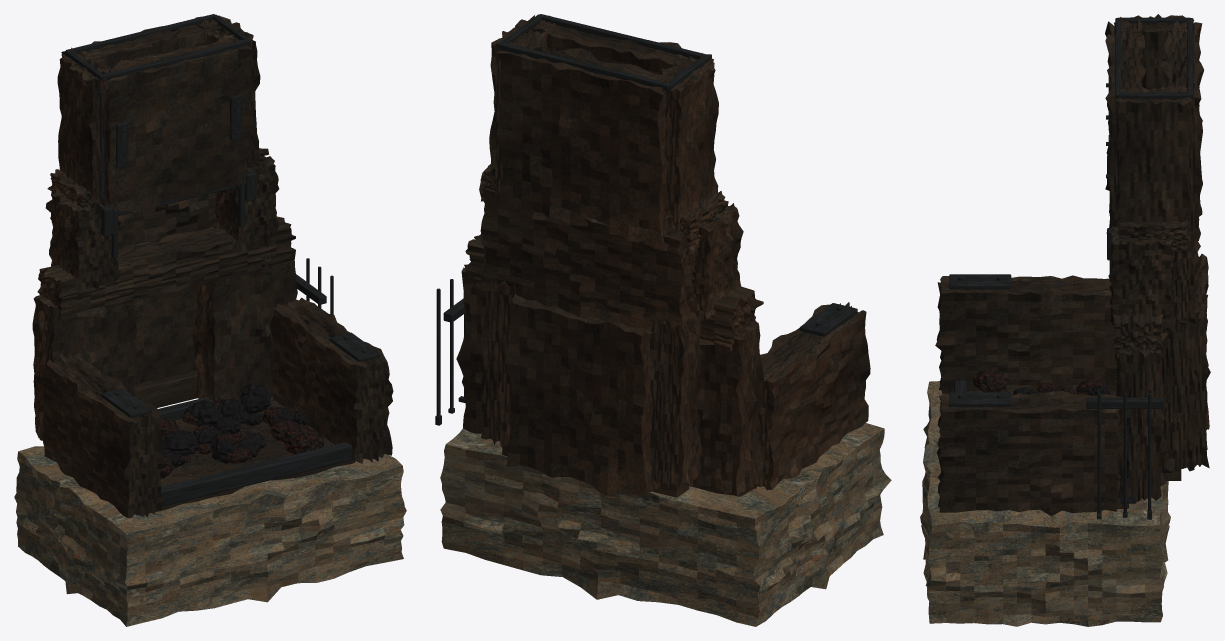
The model's file is Forge_V038_HeaderFixed_Preview.glb.
3 views of the same model, side by side, from view 1: azimuth 30°, elevation 25°; view 2: azimuth 150°, elevation 25°; view 3: azimuth 270°, elevation 25° (orthographic). The views are drawn at different scales.
Parts seen in each view (by area): view 1: One continuous fissured quarry foundation, Tall continuous rocky flue front/back 0.465, Single chiseled side wing -1, Single chiseled side wing 1, Unbroken upper masonry rock lintel, Continuous rear load-bearing rock cheek 1, Continuous rear load-bearing rock cheek -1, Tall continuous rocky flue side -1, One rear firebox rock backing with fissured soot, Monolithic upper throat supporting cheek -1, High temperature basin guard rail -0.49, Monolithic upper throat supporting cheek 1 (+14 smaller); view 2: One continuous fissured quarry foundation, Tall continuous rocky flue front/back 0.79, One rear firebox rock backing with fissured soot, One upper soot-scoured stone smoke backplate, Single chiseled side wing -1, Continuous rear load-bearing rock cheek -1, Uninterrupted low smoke duct sidewall -1, Tall continuous rocky flue side -1, Uninterrupted low smoke duct sidewall 1, Monolithic upper throat supporting cheek -1, Continuous rear load-bearing rock cheek 1, Tall continuous rocky flue front/back 0.465 (+7 smaller); view 3: One continuous fissured quarry foundation, Single chiseled side wing 1, Single chiseled side wing -1, Tall continuous rocky flue side 1, Continuous rear load-bearing rock cheek 1, Monolithic upper throat supporting cheek 1, Uninterrupted low smoke duct sidewall 1, Tall continuous rocky flue front/back 0.79, Tall continuous rocky flue front/back 0.465, One rear firebox rock backing with fissured soot, One upper soot-scoured stone smoke backplate, Tall continuous rocky flue side -1 (+13 smaller).
Part boxes in pixels (x1=…): One continuous fissured quarry foundation: x1=14, y1=446, x2=406, y2=626; Tall continuous rocky flue front/back 0.465: x1=95, y1=34, x2=253, y2=212; Single chiseled side wing -1: x1=41, y1=353, x2=167, y2=518; Single chiseled side wing 1: x1=269, y1=297, x2=393, y2=463; Unbroken upper masonry rock lintel: x1=37, y1=216, x2=295, y2=320; Continuous rear load-bearing rock cheek 1: x1=192, y1=248, x2=297, y2=403; Continuous rear load-bearing rock cheek -1: x1=32, y1=295, x2=136, y2=440; Tall continuous rocky flue side -1: x1=57, y1=47, x2=117, y2=205; One rear firebox rock backing with fissured soot: x1=133, y1=288, x2=197, y2=385; Monolithic upper throat supporting cheek -1: x1=45, y1=188, x2=121, y2=291; High temperature basin guard rail -0.49: x1=161, y1=442, x2=352, y2=506; Monolithic upper throat supporting cheek 1: x1=214, y1=156, x2=279, y2=252; One continuous fissured quarry foundation: x1=440, y1=423, x2=891, y2=626; Tall continuous rocky flue front/back 0.79: x1=495, y1=38, x2=674, y2=245; One rear firebox rock backing with fissured soot: x1=505, y1=294, x2=660, y2=497; One upper soot-scoured stone smoke backplate: x1=480, y1=188, x2=700, y2=340; Single chiseled side wing -1: x1=752, y1=302, x2=870, y2=490; Continuous rear load-bearing rock cheek -1: x1=687, y1=321, x2=763, y2=495; Uninterrupted low smoke duct sidewall -1: x1=649, y1=316, x2=701, y2=488; Tall continuous rocky flue side -1: x1=654, y1=53, x2=718, y2=243; Uninterrupted low smoke duct sidewall 1: x1=481, y1=278, x2=515, y2=447; Monolithic upper throat supporting cheek -1: x1=693, y1=203, x2=743, y2=320; Continuous rear load-bearing rock cheek 1: x1=456, y1=264, x2=486, y2=433; Tall continuous rocky flue front/back 0.465: x1=531, y1=15, x2=712, y2=74; One continuous fissured quarry foundation: x1=920, y1=381, x2=1170, y2=626; Single chiseled side wing 1: x1=936, y1=391, x2=1122, y2=516; Single chiseled side wing -1: x1=935, y1=275, x2=1117, y2=393; Tall continuous rocky flue side 1: x1=1115, y1=86, x2=1192, y2=236; Continuous rear load-bearing rock cheek 1: x1=1111, y1=332, x2=1168, y2=501; Monolithic upper throat supporting cheek 1: x1=1107, y1=226, x2=1174, y2=328; Uninterrupted low smoke duct sidewall 1: x1=1161, y1=304, x2=1199, y2=471; Tall continuous rocky flue front/back 0.79: x1=1160, y1=21, x2=1203, y2=240; Tall continuous rocky flue front/back 0.465: x1=1105, y1=20, x2=1145, y2=228; One rear firebox rock backing with fissured soot: x1=1194, y1=254, x2=1210, y2=468; One upper soot-scoured stone smoke backplate: x1=1162, y1=219, x2=1200, y2=334; Tall continuous rocky flue side -1: x1=1114, y1=14, x2=1194, y2=90.
Bounding box in the file's own units: 2.09 × 3.22 × 1.67.
7 materials, 7 textured.
